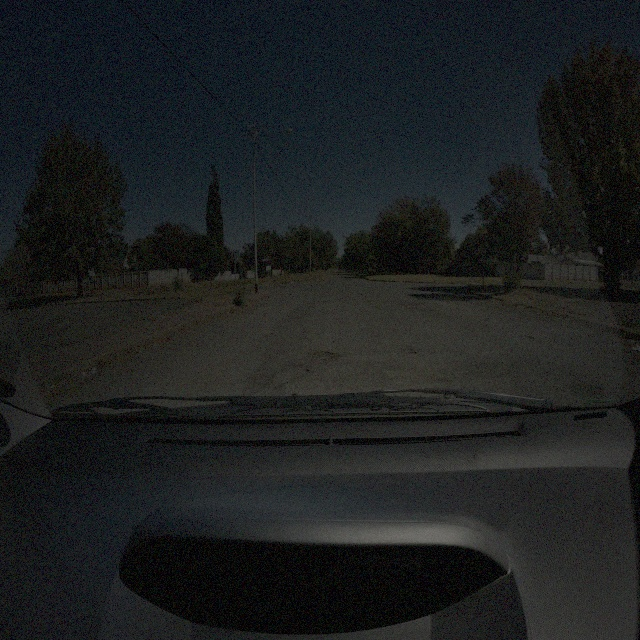pothole: (401, 345, 419, 356)
